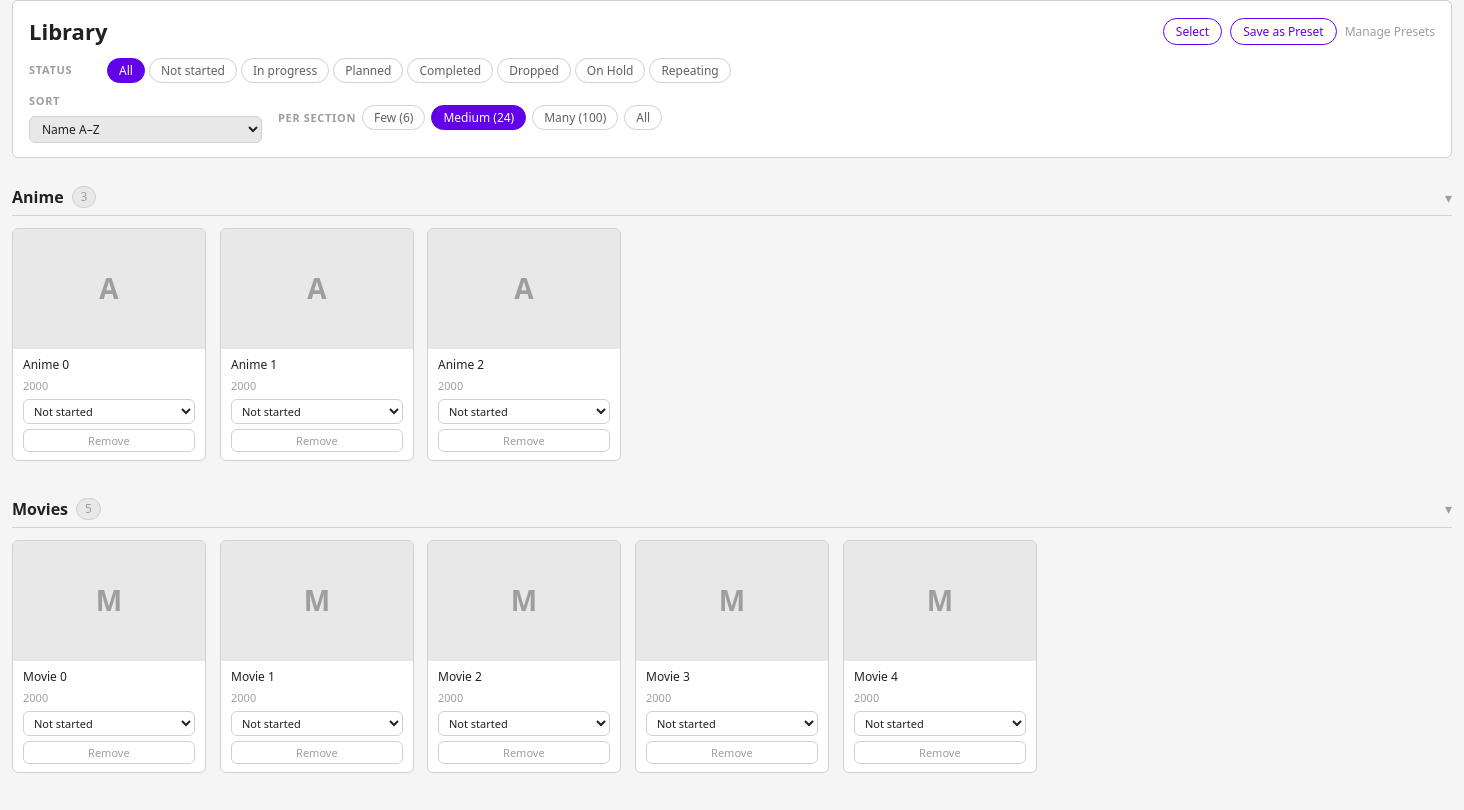
Test: LibraryPage › closing one section does not re-render the cards of the others
Check: the text "Anime 0" is shown, box [23, 356, 69, 373]
Check: the text "Movie 0" is shown, box [23, 668, 67, 685]
Click the button "Anime 3 ▾" at (38, 197), box [12, 182, 1452, 216]
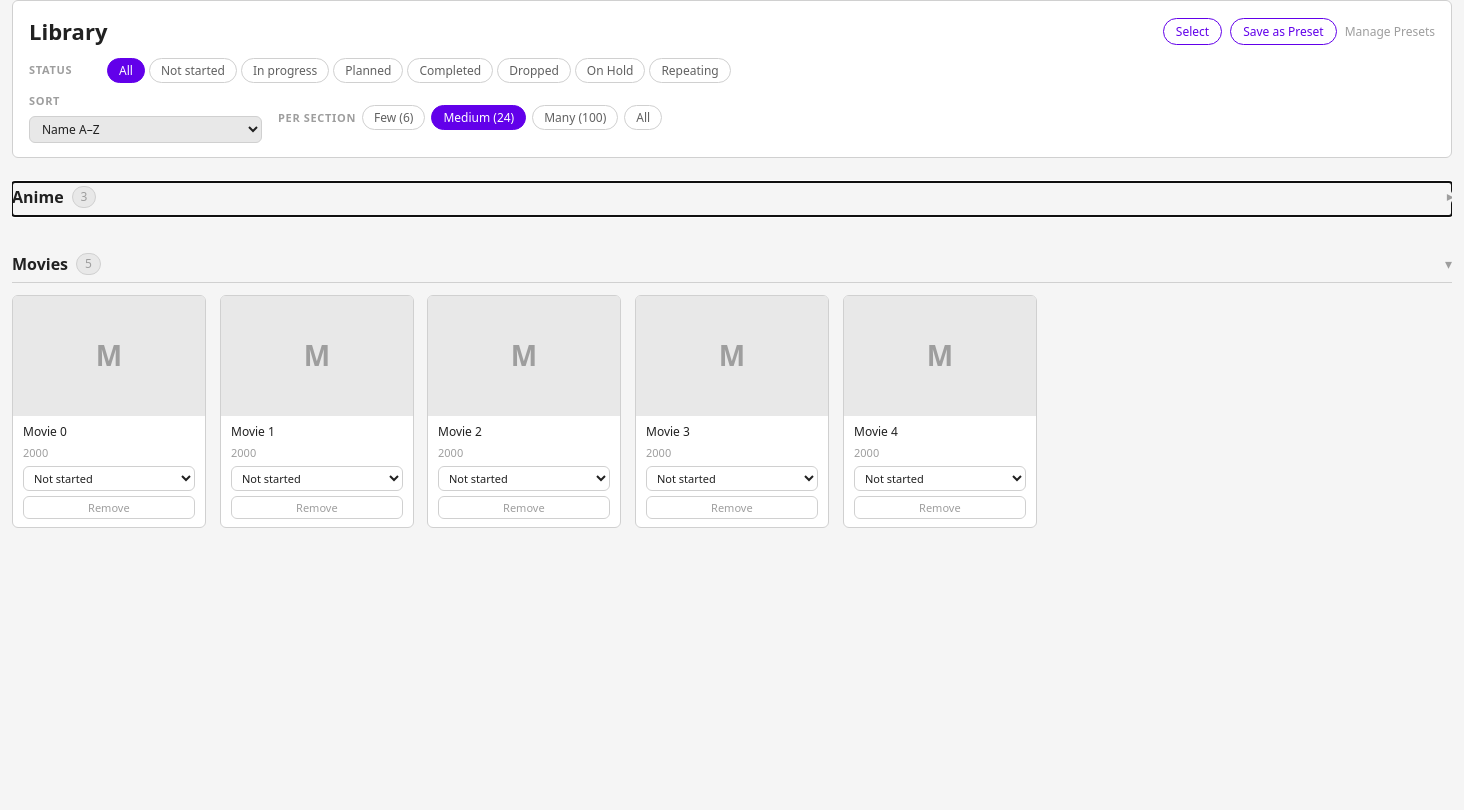
Check: the link "Anime 0" is gone
